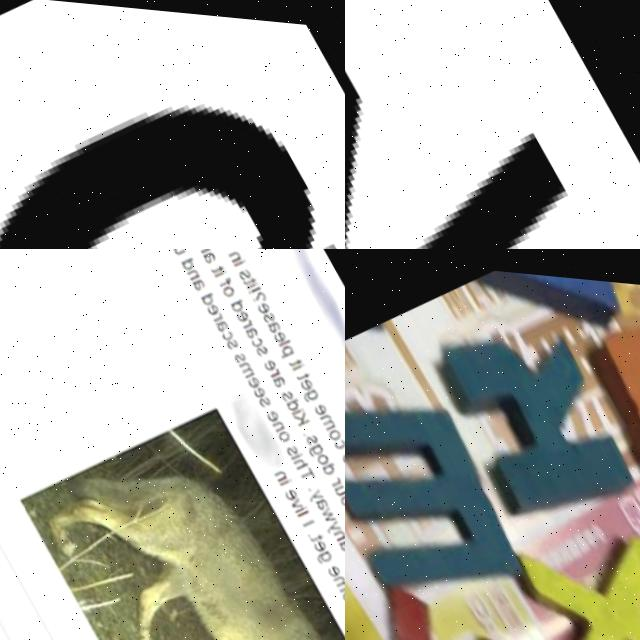A: (189, 267, 206, 284), (264, 309, 280, 326), (212, 309, 228, 326), (270, 365, 285, 381), (243, 316, 258, 332), (312, 486, 327, 502), (334, 527, 345, 543), (201, 249, 216, 257)
C: (330, 426, 345, 442), (248, 327, 263, 341), (219, 320, 233, 334), (342, 588, 345, 602)
D: (282, 386, 300, 403), (319, 451, 336, 468), (228, 288, 245, 305), (199, 283, 216, 300), (178, 249, 196, 264)
E: (296, 367, 312, 383), (260, 349, 276, 365), (250, 376, 266, 392), (244, 366, 260, 382), (323, 553, 339, 569), (280, 477, 296, 493), (311, 392, 326, 408), (270, 319, 285, 335), (254, 291, 269, 307), (233, 299, 248, 315), (263, 399, 278, 415), (204, 293, 219, 309), (309, 528, 324, 544)
F: (216, 268, 231, 280)
G: (311, 537, 331, 556), (301, 377, 318, 394), (305, 431, 322, 448)
H: (291, 446, 306, 462)
I: (288, 397, 303, 407), (211, 260, 226, 270), (289, 352, 303, 362), (244, 271, 258, 281), (232, 249, 246, 259), (276, 467, 290, 477), (299, 509, 313, 519), (292, 495, 305, 505), (289, 442, 301, 451)
K: (345, 0, 640, 249), (419, 282, 640, 555), (291, 400, 308, 417)
L: (276, 329, 290, 339), (293, 499, 307, 509)
M: (345, 352, 528, 625), (317, 402, 334, 421), (237, 352, 254, 371), (330, 564, 345, 582)
N: (271, 459, 286, 475), (330, 517, 345, 532), (270, 411, 283, 424), (186, 261, 199, 273), (225, 249, 241, 255)
O: (325, 417, 341, 433), (219, 275, 235, 291), (313, 441, 328, 457), (275, 419, 289, 435), (336, 481, 345, 498), (336, 577, 345, 593), (337, 439, 345, 455)
P: (0, 100, 312, 249), (276, 333, 293, 351)
R: (239, 308, 253, 323), (327, 465, 341, 478), (210, 303, 224, 316), (267, 359, 280, 370)
S: (236, 258, 252, 274), (282, 432, 297, 449), (302, 422, 317, 438), (278, 379, 293, 393), (231, 342, 246, 356), (223, 329, 238, 343), (260, 301, 274, 315), (254, 335, 268, 349), (256, 386, 270, 400)
T: (295, 456, 314, 474), (241, 266, 256, 279), (209, 255, 224, 267), (294, 362, 309, 373), (306, 523, 321, 534), (287, 348, 301, 359), (342, 449, 345, 460)
U: (345, 547, 593, 640), (330, 472, 345, 487)
V: (285, 486, 301, 502)
W: (578, 272, 640, 522), (318, 496, 334, 514)
X: (501, 491, 640, 640)
Y: (303, 476, 322, 495), (320, 508, 339, 526)
